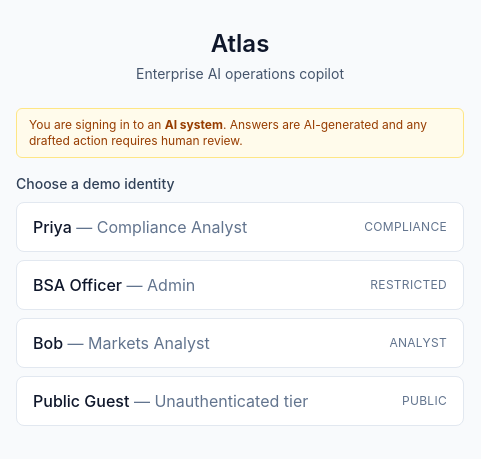
Test: LoginPage › shows an error message when login fails
Click the button "Priya — Compliance Analyst compliance" at (240, 227), box 16,202 -> 464,252
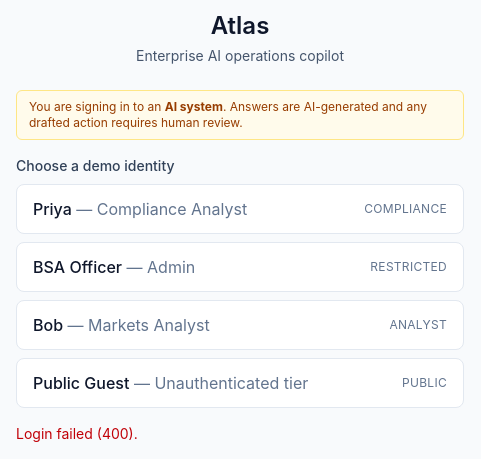
Expected: the message shows "Login failed", 16,425 -> 138,442
